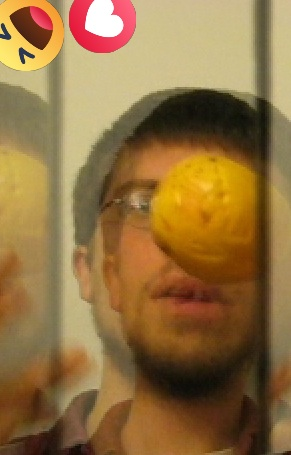haha: (0, 0, 64, 71)
love: (69, 0, 136, 53)
